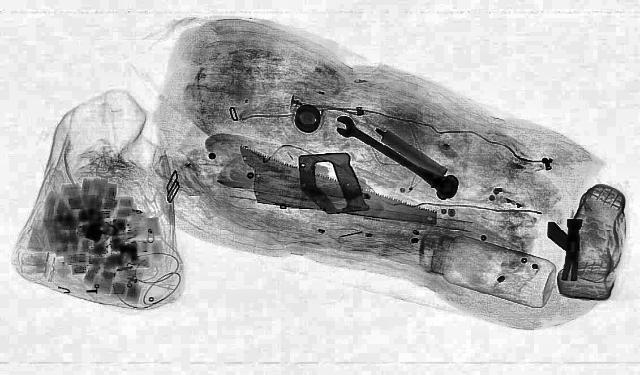Pliers: (559, 229, 583, 282)
Wrench: (315, 113, 475, 202)
